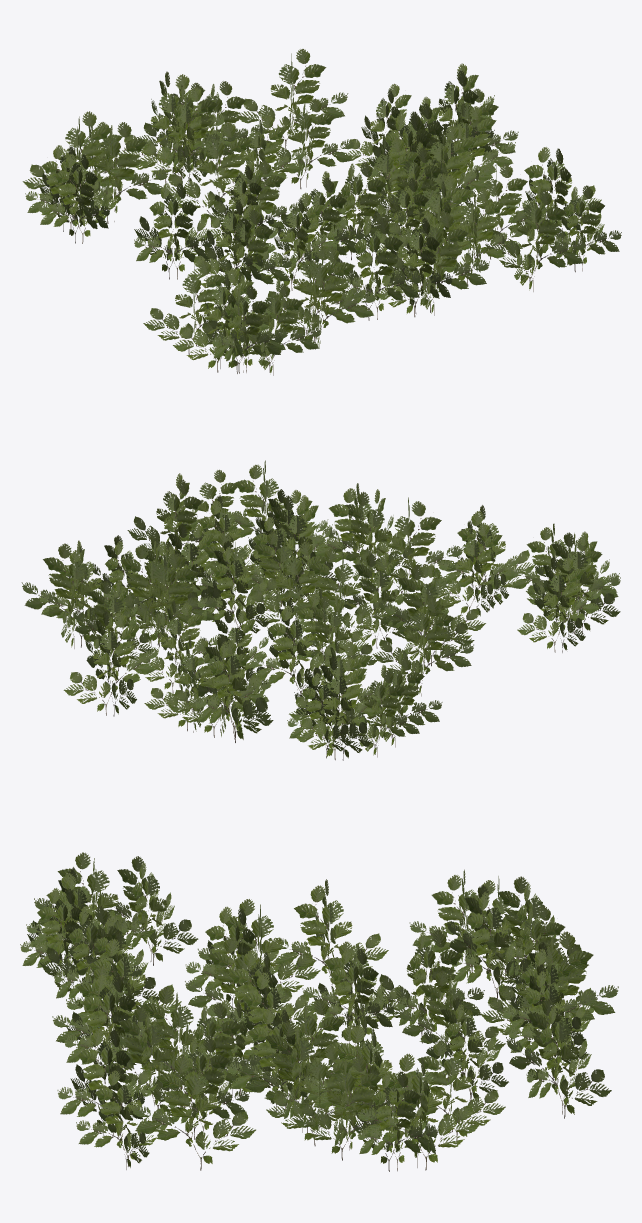
The model's file is small_trees.glb.
The picture shows the model from 3 angles, top to bottom: view 1: azimuth 30°, elevation 25°; view 2: azimuth 150°, elevation 25°; view 3: azimuth 270°, elevation 25°; orthographic projection. The views are drawn at different scales.
Parts seen in each view (by area): view 1: red-baron-grass-ornamental-Va7qqJC-600.001_red-baron-grass-o, red-baron-grass-ornamental-Va7qqJC-600_red-baron-grass-ornam; view 2: red-baron-grass-ornamental-Va7qqJC-600_red-baron-grass-ornam, red-baron-grass-ornamental-Va7qqJC-600.001_red-baron-grass-o; view 3: red-baron-grass-ornamental-Va7qqJC-600_red-baron-grass-ornam, red-baron-grass-ornamental-Va7qqJC-600.001_red-baron-grass-o.
Part boxes in pixels (box(x1,y1,x2,y2)): red-baron-grass-ornamental-Va7qqJC-600.001_red-baron-grass-o: box(22, 49, 621, 375); red-baron-grass-ornamental-Va7qqJC-600_red-baron-grass-ornam: box(25, 53, 604, 372); red-baron-grass-ornamental-Va7qqJC-600_red-baron-grass-ornam: box(61, 460, 620, 760); red-baron-grass-ornamental-Va7qqJC-600.001_red-baron-grass-o: box(21, 464, 620, 760); red-baron-grass-ornamental-Va7qqJC-600_red-baron-grass-ornam: box(20, 852, 611, 1171); red-baron-grass-ornamental-Va7qqJC-600.001_red-baron-grass-o: box(26, 858, 618, 1171).
Bounding box in the file's own units: 4.91 × 1.17 × 4.82.
Materials: 1 (1 with a texture image).
